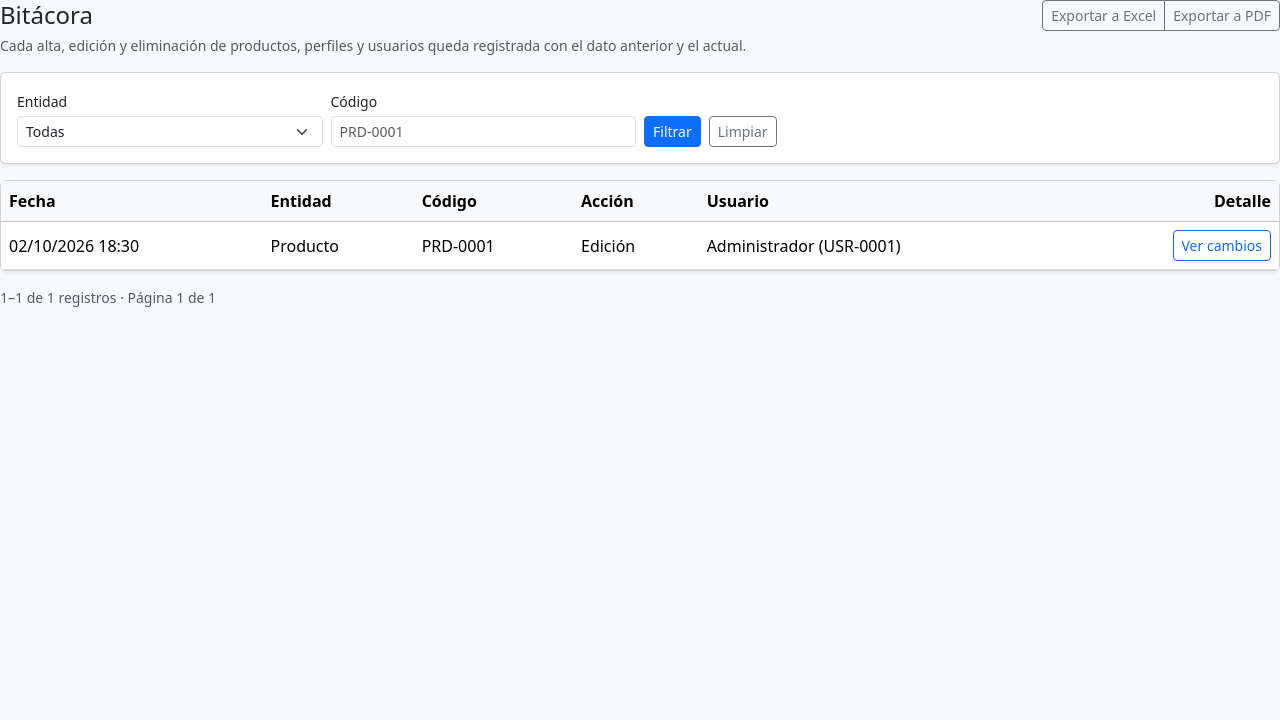
Test: AuditLogListComponent › "Ver cambios" abre la ventana con el antes y el después del registro
Click the button with class "btn-outline-primary": (1222,246) [1172, 230, 1271, 261]
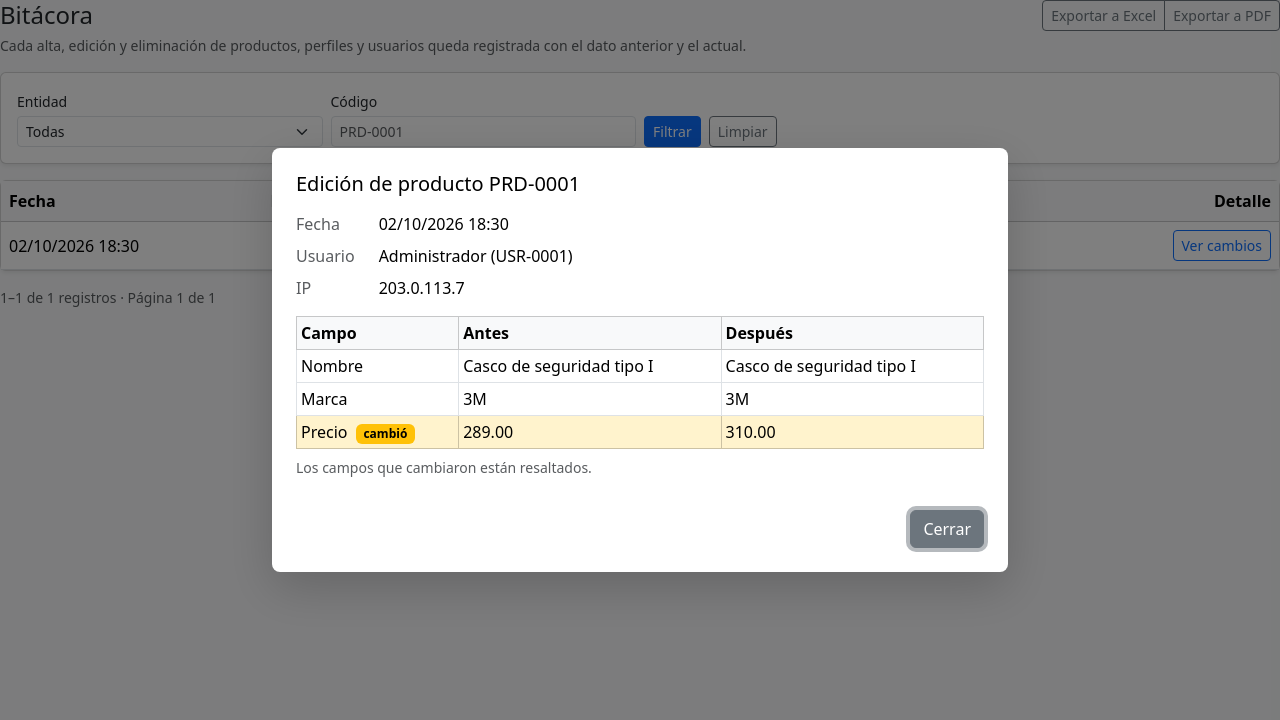
Expected: the heading "Edición de producto PRD-0001" is shown, [296, 170, 580, 197]
